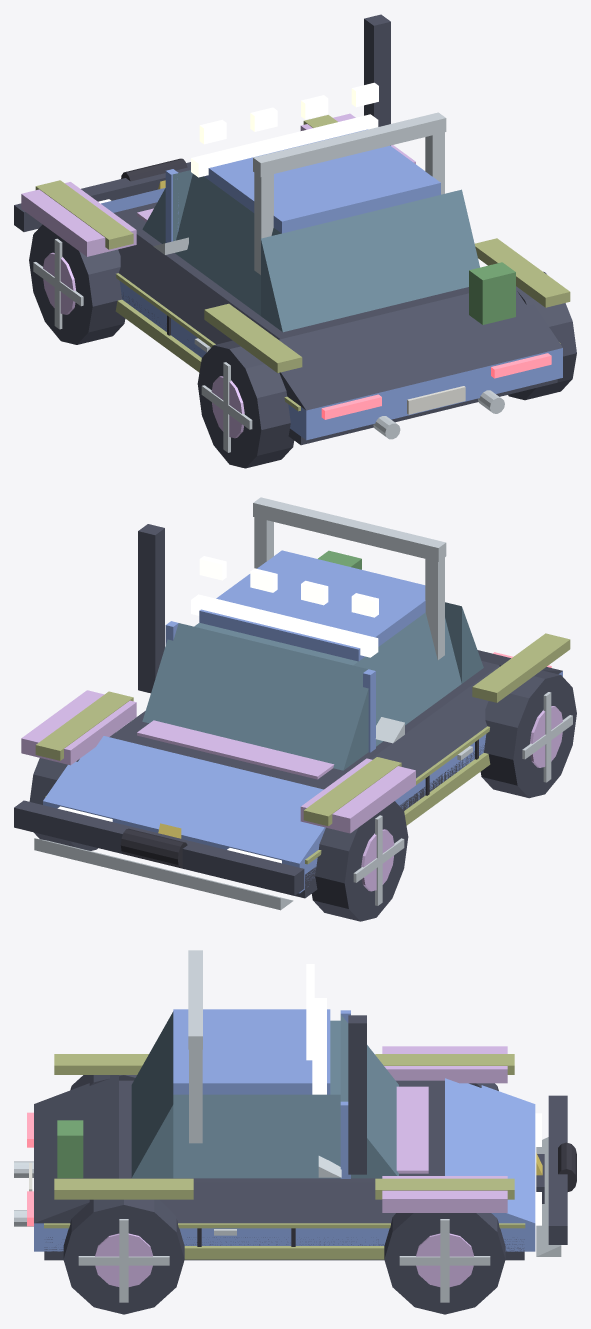
Rendered from gravel_ghoul.glb.
The picture shows the model from 3 angles, top to bottom: view 1: azimuth 30°, elevation 25°; view 2: azimuth 150°, elevation 25°; view 3: azimuth 270°, elevation 25°; orthographic projection. The views are drawn at different scales.
Visible parts, largest first — view 1: RearWindow.160, Tail.060, Roof.260, Body.260, Wheel_RL.220, CabinSideL.057, Wheel_FL.220, ShoulderL.057, RollBar.053, Fender-1.053, BodyUpper.057, LightBar.016 (+24 smaller); view 2: Windshield.160, Nose.057, Roof.260, Wheel_RL.220, BashBar.053, CabinSideL.057, Wheel_FL.220, ShoulderL.057, RollBar.053, Snorkel.015, Hood.256, BodyUpper.057 (+28 smaller); view 3: CabinSideR.057, Roof.260, Nose.057, ShoulderR.057, Wheel_RR.220, Tail.060, Wheel_FR.220, RearWindow.160, Body.260, Windshield.160, BodyUpper.057, Fender1.053 (+25 smaller).
Boxes of the visible parts, <box> form: RearWindow.160: <box>261,189,479,332</box>; Tail.060: <box>278,286,562,410</box>; Roof.260: <box>204,129,440,233</box>; Body.260: <box>119,281,562,440</box>; Wheel_RL.220: <box>197,340,294,468</box>; CabinSideL.057: <box>175,174,281,315</box>; Wheel_FL.220: <box>29,224,125,344</box>; ShoulderL.057: <box>118,234,279,344</box>; RollBar.053: <box>253,112,446,176</box>; Fender-1.053: <box>21,182,136,256</box>; BodyUpper.057: <box>114,202,468,339</box>; LightBar.016: <box>191,114,378,177</box>; Windshield.160: <box>142,623,368,770</box>; Nose.057: <box>43,736,325,863</box>; Roof.260: <box>199,550,425,661</box>; Wheel_RL.220: <box>480,670,576,798</box>; BashBar.053: <box>14,800,304,895</box>; CabinSideL.057: <box>353,612,461,746</box>; Wheel_FL.220: <box>312,801,408,921</box>; ShoulderL.057: <box>371,665,499,778</box>; RollBar.053: <box>253,497,446,561</box>; Snorkel.015: <box>138,524,164,693</box>; Hood.256: <box>137,720,334,779</box>; BodyUpper.057: <box>109,661,498,789</box>; CabinSideR.057: <box>173,1094,340,1178</box>; Roof.260: <box>173,1009,330,1094</box>; Nose.057: <box>445,1078,535,1223</box>; ShoulderR.057: <box>159,1182,395,1223</box>; Wheel_RR.220: <box>63,1199,184,1314</box>; Tail.060: <box>34,1075,118,1223</box>; Wheel_FR.220: <box>384,1213,505,1314</box>; RearWindow.160: <box>131,1011,173,1178</box>; Body.260: <box>34,1223,535,1251</box>; Windshield.160: <box>340,1014,398,1178</box>; BodyUpper.057: <box>119,1080,444,1182</box>; Fender1.053: <box>382,1176,507,1212</box>.
Size of the model in its own units: 3.46 by 2.9 by 5.39.
